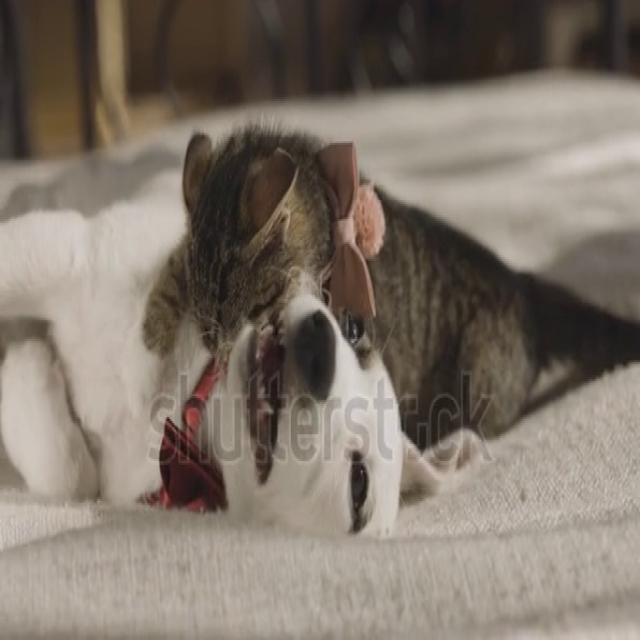normal_animals: (0, 112, 639, 543)
